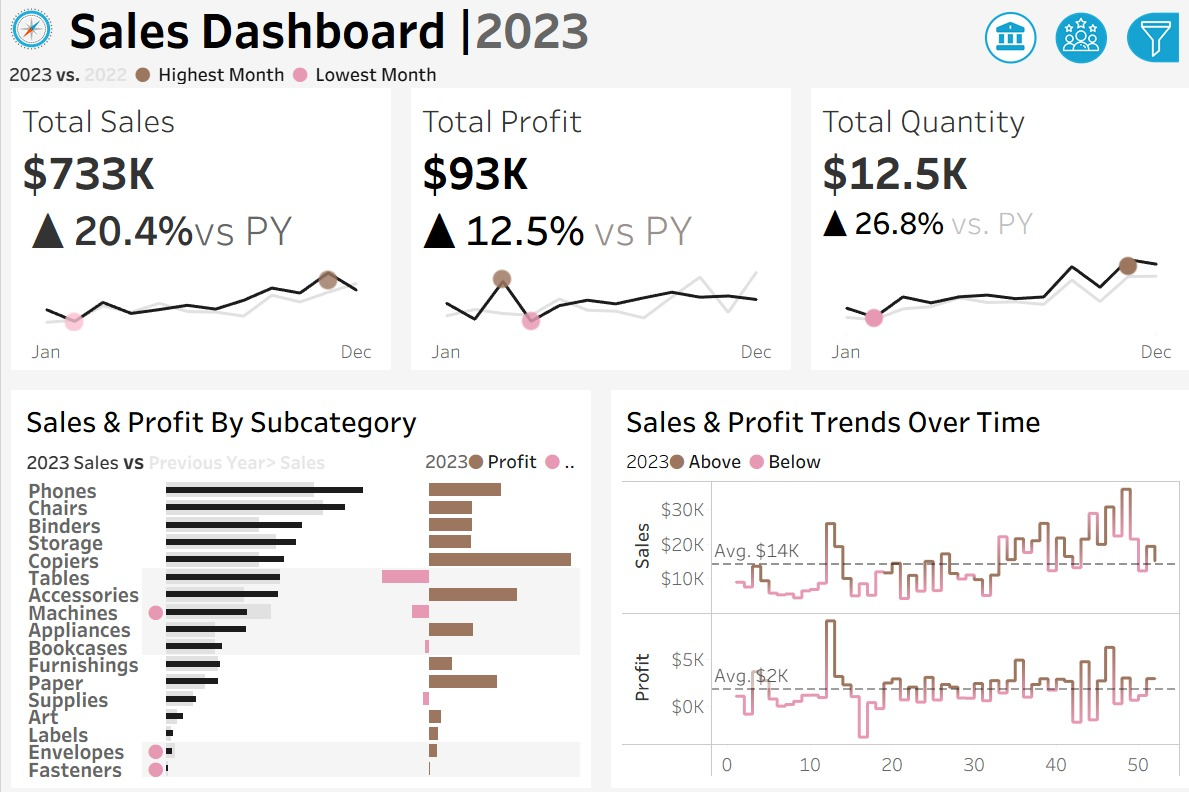

The dashboard page shown, as its layout file describes it:
{"tool":"tableau","page":{"name":"Sales Dashboard","canvas":[1200,800],"ordinal":1},"visuals":[{"type":"image","param":"Image/Icon - Logo.png","box":[0,0,60,61]},{"type":"text","box":[60,0,914,61]},{"type":"dashboard-object","box":[974,9,71,61]},{"type":"dashboard-object","box":[1045,9,71,61]},{"type":"dashboard-object","box":[1116,9,70,61]},{"type":"text","box":[988,12,198,160]},{"type":"worksheet","title":"Legend KPI","mark":"Automatic","box":[0,61,1200,29]},{"type":"worksheet","title":"KPI Sales","mark":"Automatic","rows":["Calculation_2190780395651076"],"cols":["Order Date"],"box":[0,90,400,292]},{"type":"worksheet","title":"KPI Profit","mark":"Automatic","rows":["Calculation_2190780576337936"],"cols":["Order Date"],"box":[400,90,400,292]},{"type":"worksheet","title":"KPI Quantity","mark":"Automatic","rows":["Calculation_2190780620705811"],"cols":["Order Date"],"box":[800,90,400,292]},{"type":"parameter","param":"[Parameters].[Parameter 1]","box":[988,172,198,78]},{"type":"text","box":[988,250,198,33]},{"type":"filter","title":"KPI Sales","param":"[federated.17im6u30encebm19gcxam1x1lwap].[none:Category:nk]","box":[988,283,198,70]},{"type":"filter","title":"KPI Sales","param":"[federated.17im6u30encebm19gcxam1x1lwap].[none:Sub-Category:nk]","box":[988,353,198,70]},{"type":"text","box":[17,399,566,47]},{"type":"text","box":[617,399,566,47]},{"type":"text","box":[988,423,198,33]},{"type":"worksheet","title":"Legend Subcategory","mark":"Automatic","box":[17,446,399,33]},{"type":"text","box":[416,446,167,33]},{"type":"text","box":[617,446,566,33]},{"type":"filter","title":"KPI Sales","param":"[federated.17im6u30encebm19gcxam1x1lwap].[none:Region:nk]","box":[988,456,198,70]},{"type":"worksheet","title":"Subcategory Comparision","mark":"Bar","rows":["Sub-Category","Calculation_2190780639125526"],"cols":["Calculation_2190780386873345","Calculation_2190780386377728","Calculation_2190780571340810"],"box":[17,479,566,304]},{"type":"worksheet","title":"Weekly Trends","mark":"Automatic","rows":["Calculation_2190780386377728","Calculation_2190780571340810"],"cols":["Order Date"],"box":[617,479,566,304]},{"type":"filter","title":"KPI Sales","param":"[federated.17im6u30encebm19gcxam1x1lwap].[none:State:nk]","box":[988,526,198,70]},{"type":"filter","title":"KPI Sales","param":"[federated.17im6u30encebm19gcxam1x1lwap].[none:City:nk]","box":[988,596,198,70]}]}

Visuals, with their boxes in screenshot pixels (x1, y1, x2, y2), scaled from the page's 1200x800 canvas onto the 1189x792 screenshot:
image: <bbox>0, 0, 59, 60</bbox>
text: <bbox>59, 0, 965, 60</bbox>
dashboard-object: <bbox>965, 9, 1035, 69</bbox>
dashboard-object: <bbox>1035, 9, 1106, 69</bbox>
dashboard-object: <bbox>1106, 9, 1175, 69</bbox>
text: <bbox>979, 12, 1175, 170</bbox>
"Legend KPI" worksheet: <bbox>0, 60, 1188, 89</bbox>
"KPI Sales" worksheet: <bbox>0, 89, 396, 378</bbox>
"KPI Profit" worksheet: <bbox>396, 89, 793, 378</bbox>
"KPI Quantity" worksheet: <bbox>793, 89, 1188, 378</bbox>
parameter: <bbox>979, 170, 1175, 248</bbox>
text: <bbox>979, 248, 1175, 280</bbox>
"KPI Sales" filter: <bbox>979, 280, 1175, 349</bbox>
"KPI Sales" filter: <bbox>979, 349, 1175, 419</bbox>
text: <bbox>17, 395, 578, 442</bbox>
text: <bbox>611, 395, 1172, 442</bbox>
text: <bbox>979, 419, 1175, 451</bbox>
"Legend Subcategory" worksheet: <bbox>17, 442, 412, 474</bbox>
text: <bbox>412, 442, 578, 474</bbox>
text: <bbox>611, 442, 1172, 474</bbox>
"KPI Sales" filter: <bbox>979, 451, 1175, 521</bbox>
"Subcategory Comparision" worksheet (Bar marks): <bbox>17, 474, 578, 775</bbox>
"Weekly Trends" worksheet: <bbox>611, 474, 1172, 775</bbox>
"KPI Sales" filter: <bbox>979, 521, 1175, 590</bbox>
"KPI Sales" filter: <bbox>979, 590, 1175, 659</bbox>
